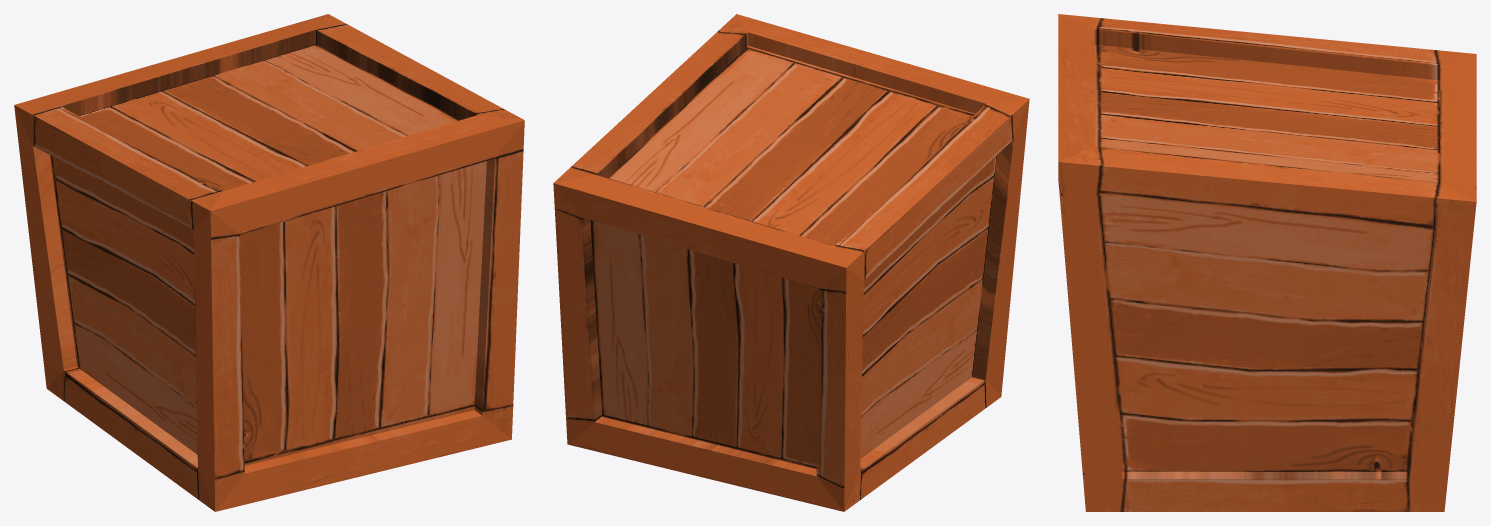
File: box_wood_2.fbx
The picture shows the model from 3 angles, left to right: view 1: azimuth 30°, elevation 25°; view 2: azimuth 150°, elevation 25°; view 3: azimuth 270°, elevation 25°; orthographic projection. The views are drawn at different scales.
Visible parts, largest first — view 1: wooden_box.001; view 2: wooden_box.001; view 3: wooden_box.001.
Boxes of the visible parts, x1,y1,x2,y2 form: wooden_box.001: [14, 14, 524, 511]; wooden_box.001: [553, 14, 1029, 511]; wooden_box.001: [1058, 14, 1476, 511].
Size of the model in its own units: 0.8 by 0.8 by 0.8665.
